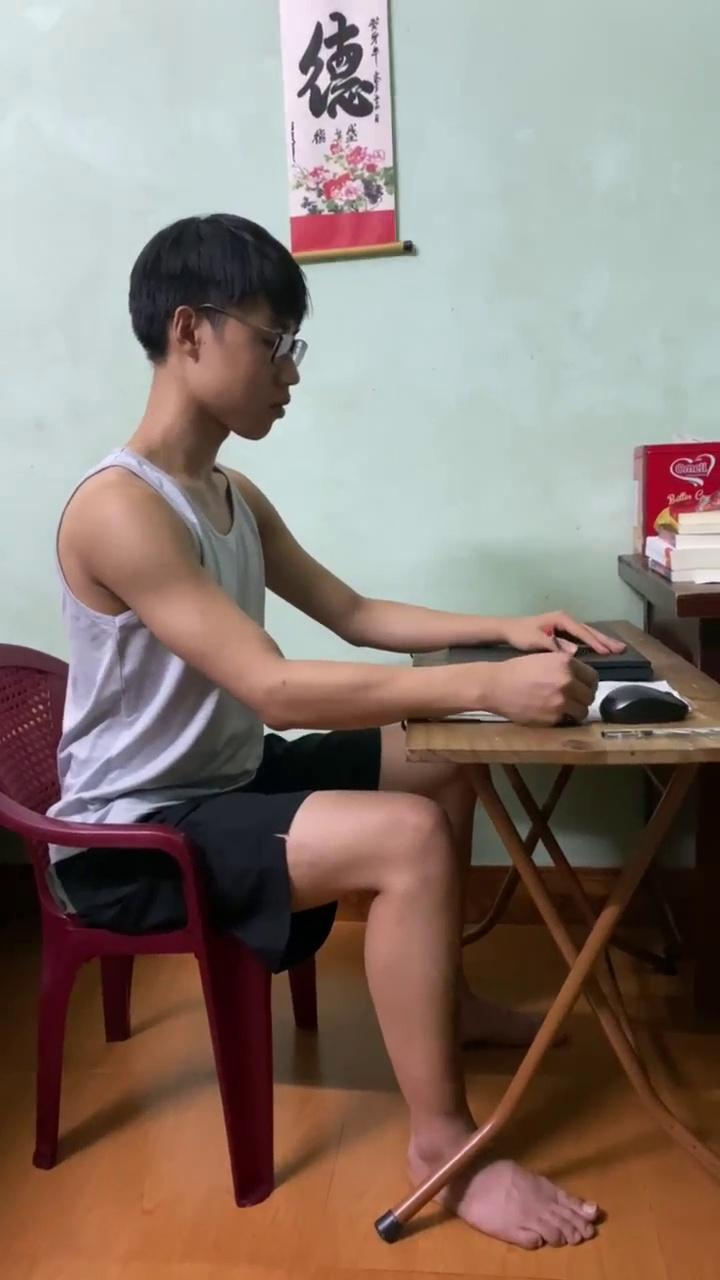GoodPosture: (50, 214, 620, 1174)
